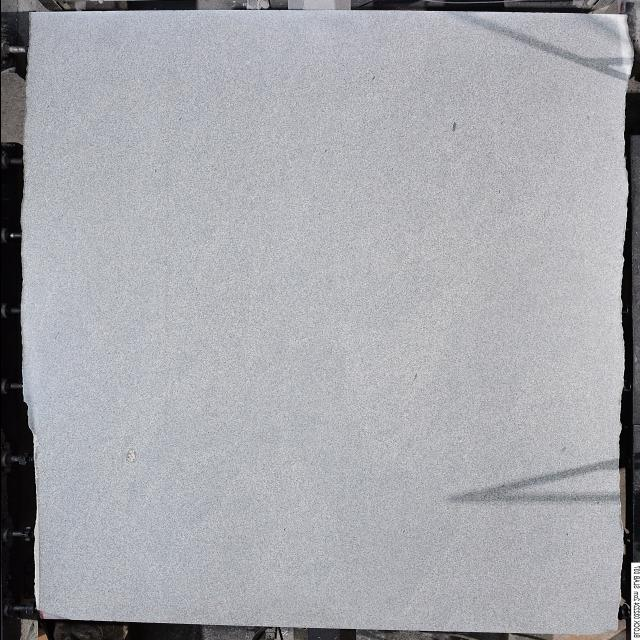chapa: (21, 10, 630, 634)
